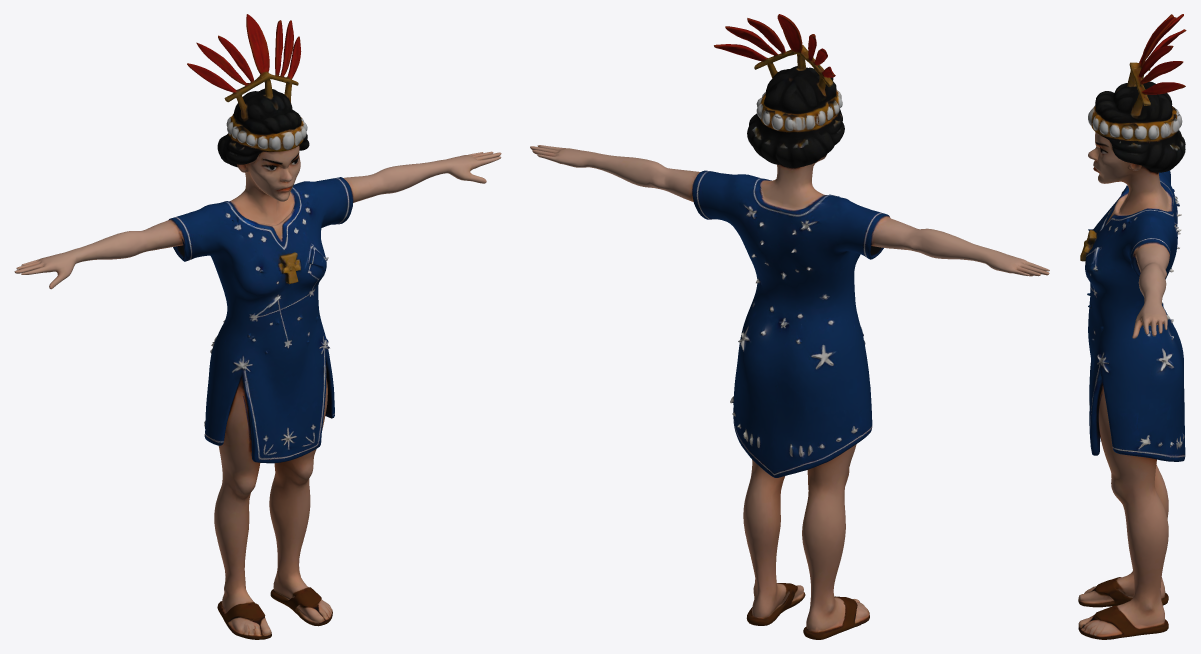
Rendered from Astrea.fbx.
The picture shows the model from 3 angles, left to right: view 1: azimuth 30°, elevation 25°; view 2: azimuth 150°, elevation 25°; view 3: azimuth 270°, elevation 25°; orthographic projection. The views are drawn at different scales.
Visible parts, largest first — view 1: tripo_node_9c32b15b; view 2: tripo_node_9c32b15b; view 3: tripo_node_9c32b15b.
Boxes of the visible parts, <box> form: tripo_node_9c32b15b: <box>14,14,501,639</box>; tripo_node_9c32b15b: <box>530,14,1049,639</box>; tripo_node_9c32b15b: <box>1078,14,1186,639</box>.
Bounding box in the file's own units: 86.98 × 16.32 × 99.98.
1 material, 1 textured.
